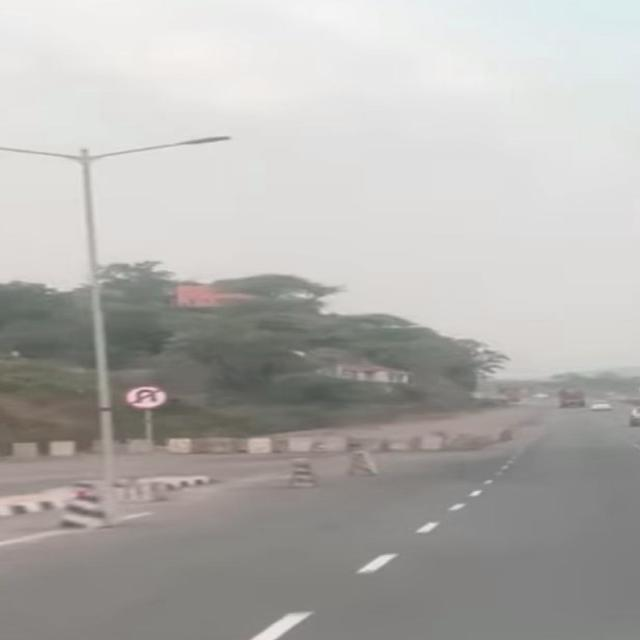no_uturn: (127, 388, 169, 410)
